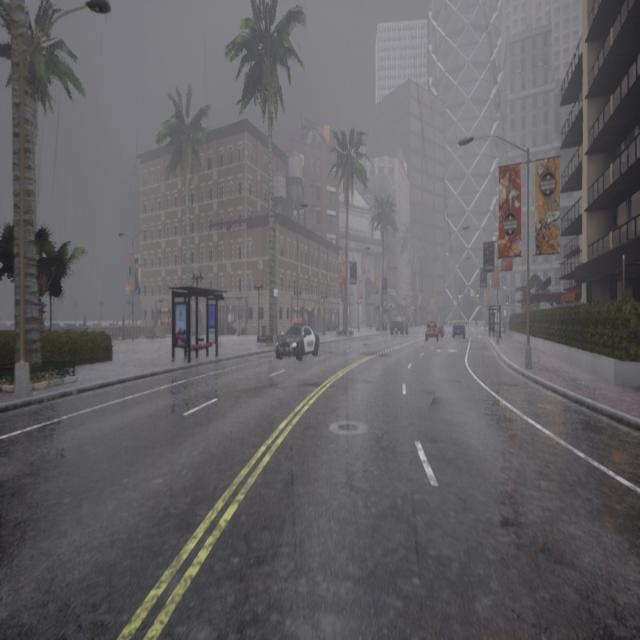bien_chi_dan: (458, 288, 462, 300), (506, 294, 509, 308), (476, 288, 479, 299), (476, 293, 479, 298), (506, 301, 509, 306), (458, 294, 461, 298)
